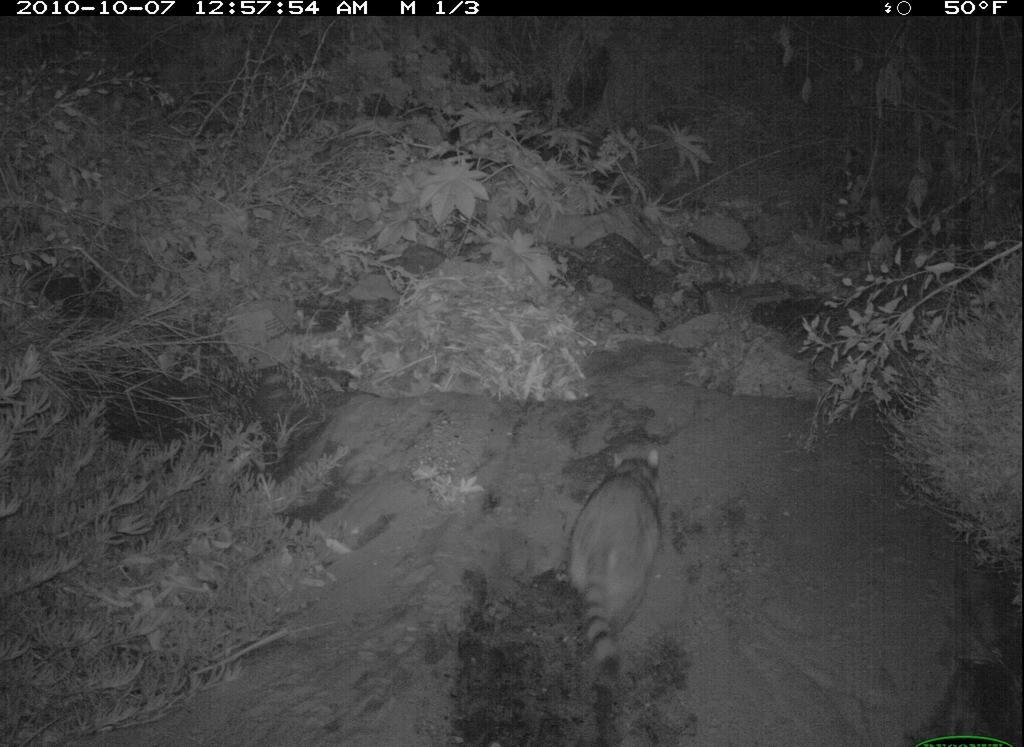raccoon: (550, 433, 678, 684)
